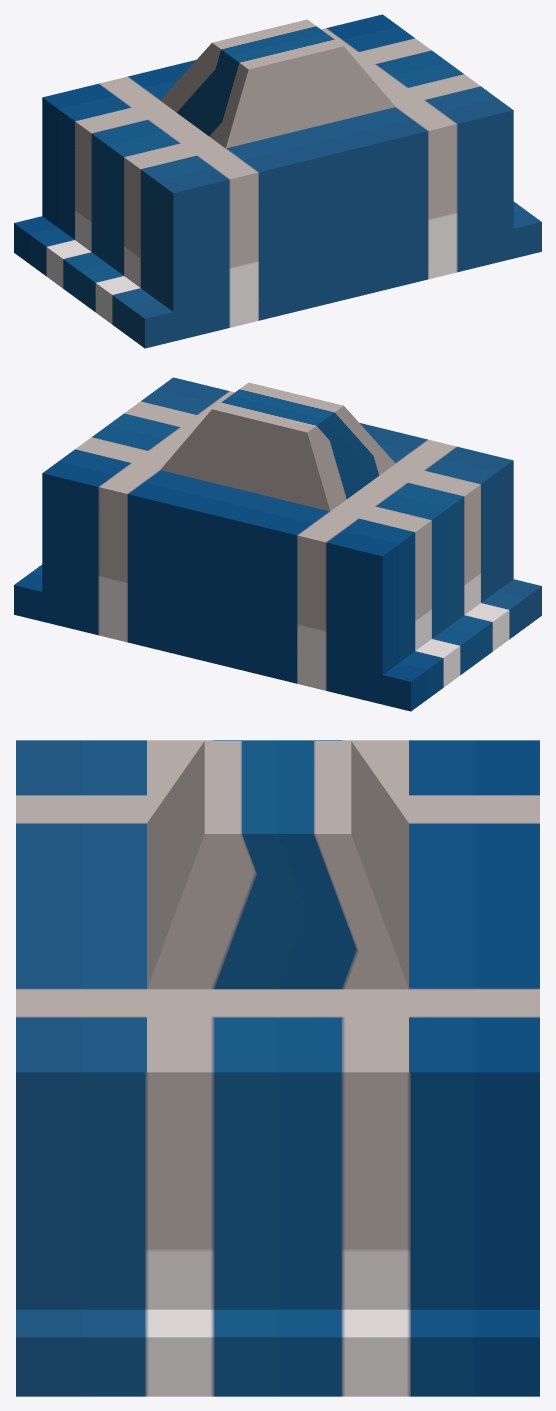
3 views of the same model, one above another, from view 1: azimuth 30°, elevation 25°; view 2: azimuth 150°, elevation 25°; view 3: azimuth 270°, elevation 25° (orthographic). The views are drawn at different scales.
Visible parts, largest first — view 1: Root032; view 2: Root032; view 3: Root032.
Boxes of the visible parts, box(x1,y1,x2,y2) form: Root032: box(14, 14, 541, 348); Root032: box(14, 377, 541, 711); Root032: box(16, 740, 539, 1396).
Bounding box in the file's own units: 14 × 7 × 8.
